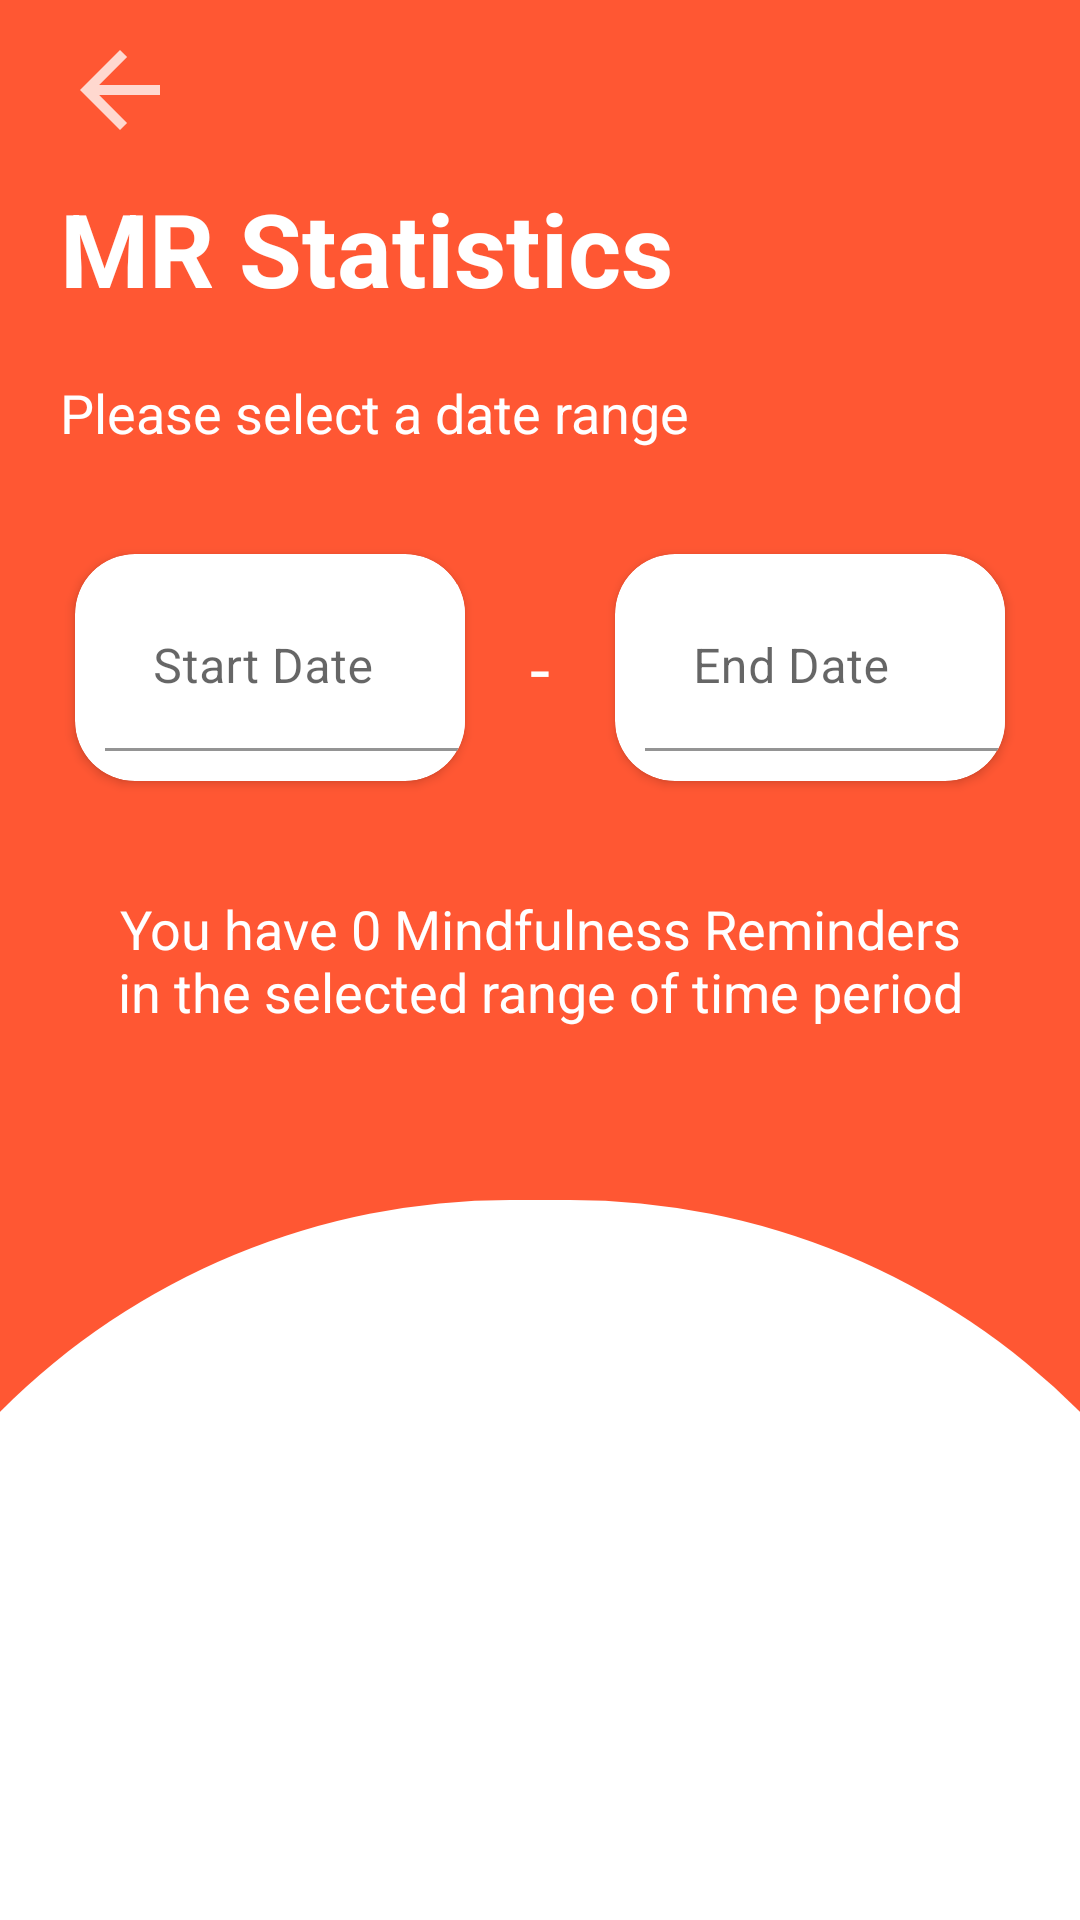

Icons on this 1080 × 1920 Android screen, each with its box as (x1, y1, x2, y2):
arrow: (80, 50, 160, 130)
